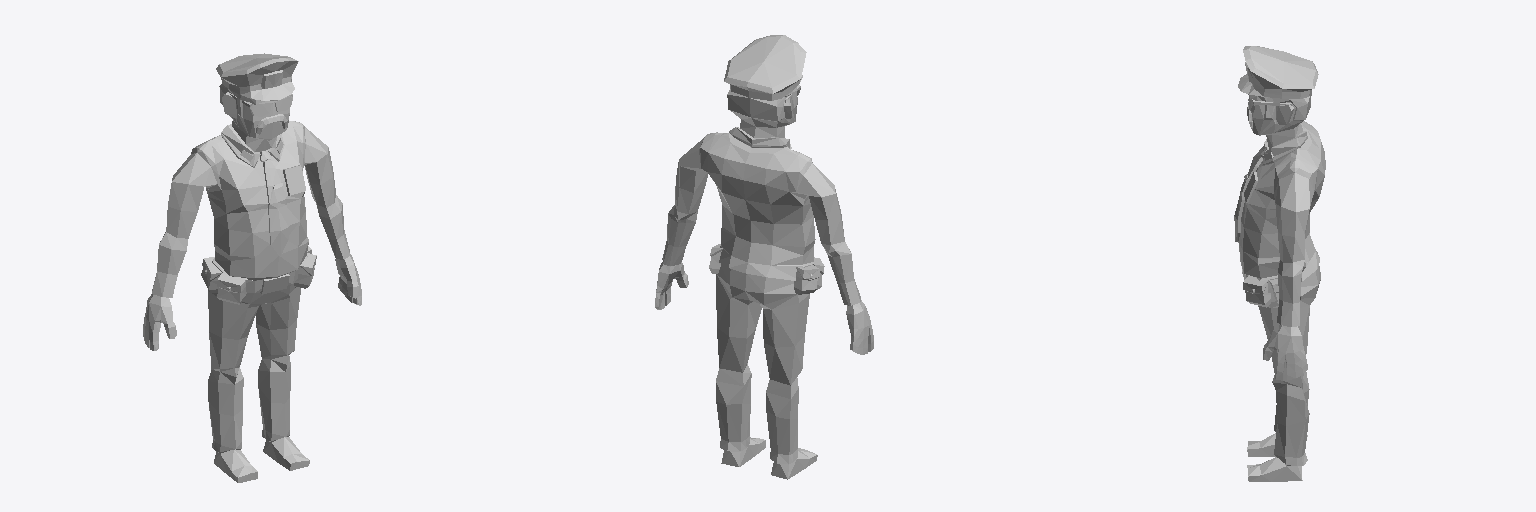
File: male_police_standing.obj
3 views of the same model, side by side, from view 1: azimuth 30°, elevation 25°; view 2: azimuth 150°, elevation 25°; view 3: azimuth 270°, elevation 25° (orthographic).
Visible parts, largest first — view 1: Character_Male_Police_Mesh; view 2: Character_Male_Police_Mesh; view 3: Character_Male_Police_Mesh.
Part boxes in pixels (bbox=[...]): Character_Male_Police_Mesh: bbox=[143, 53, 361, 482]; Character_Male_Police_Mesh: bbox=[655, 35, 873, 479]; Character_Male_Police_Mesh: bbox=[1234, 46, 1325, 481].
Bounding box in the file's own units: 0.9914 × 1.88 × 0.3742.